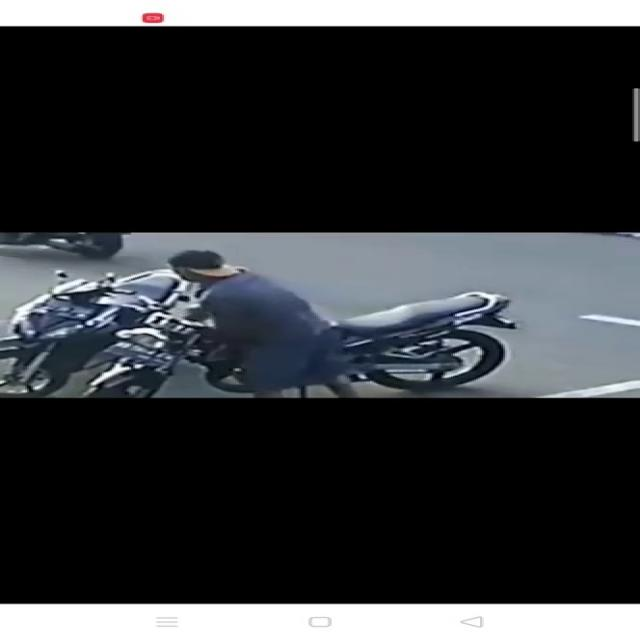pencurian: (112, 250, 518, 391)
